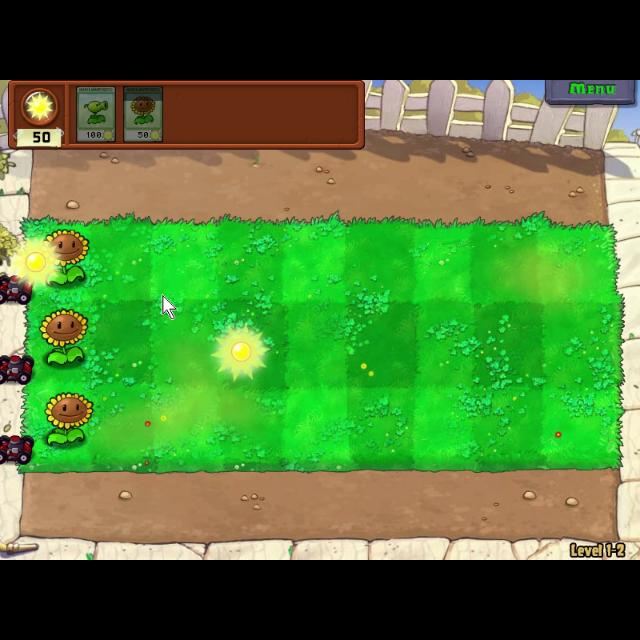Garden: (14, 212, 626, 473)
Menu Button: (542, 80, 638, 108)
Mower: (0, 270, 40, 306), (0, 434, 40, 468), (0, 351, 38, 385)
Peashooter: (75, 83, 117, 143)
Seed Panel: (6, 80, 366, 152)
Sun: (208, 317, 272, 387), (11, 238, 59, 288)
Sunflower: (122, 84, 164, 144)
Sunflower Seed: (36, 304, 92, 368), (38, 225, 92, 288), (40, 388, 96, 448)
